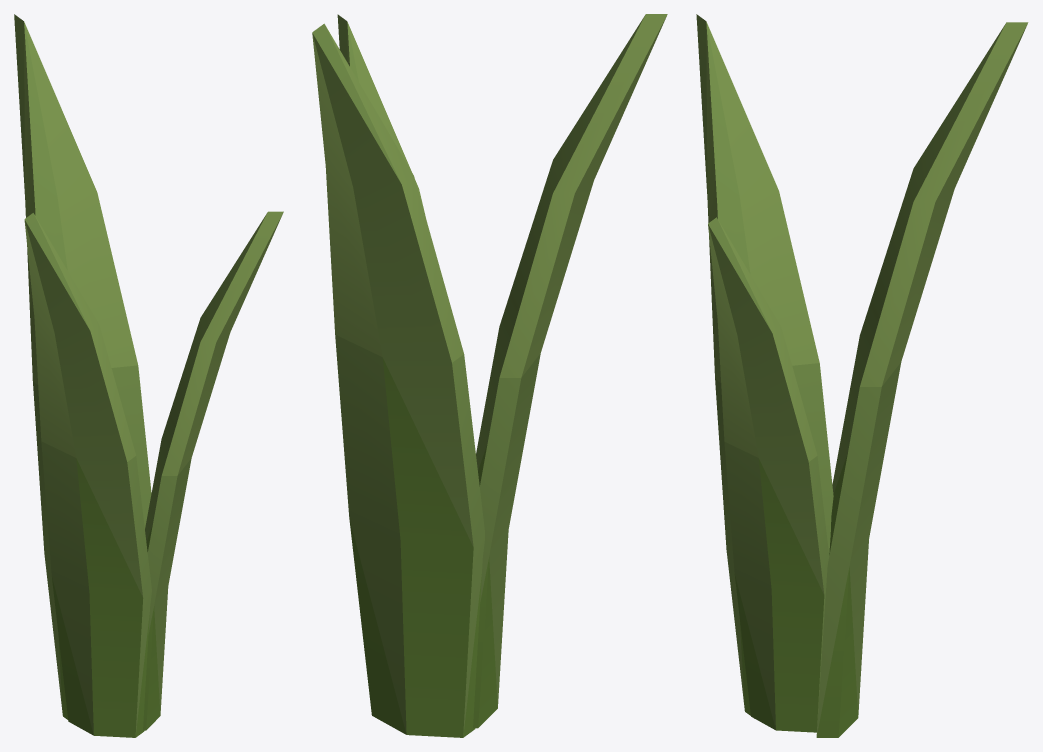
The model's file is itch_kaykit_forest_grass_2_b_color1.glb.
The picture shows the model from 3 angles, left to right: view 1: azimuth 30°, elevation 25°; view 2: azimuth 150°, elevation 25°; view 3: azimuth 270°, elevation 25°; orthographic projection. The views are drawn at different scales.
Parts seen in each view (by area): view 1: Grass_2_B_Color1; view 2: Grass_2_B_Color1; view 3: Grass_2_B_Color1.
Boxes of the visible parts, x1,y1,x2,y2 form: Grass_2_B_Color1: (14,14,283,737); Grass_2_B_Color1: (312,14,667,737); Grass_2_B_Color1: (696,14,1028,737).
Bounding box in the file's own units: 0.8124 × 1.85 × 0.8001.
